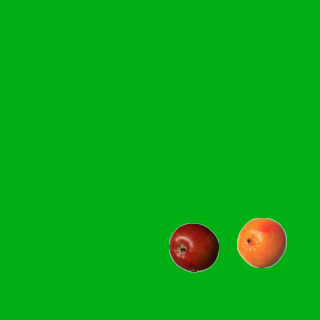Apple Braeburn: (168, 222, 218, 272)
Grapefruit Pink: (236, 217, 286, 267)
